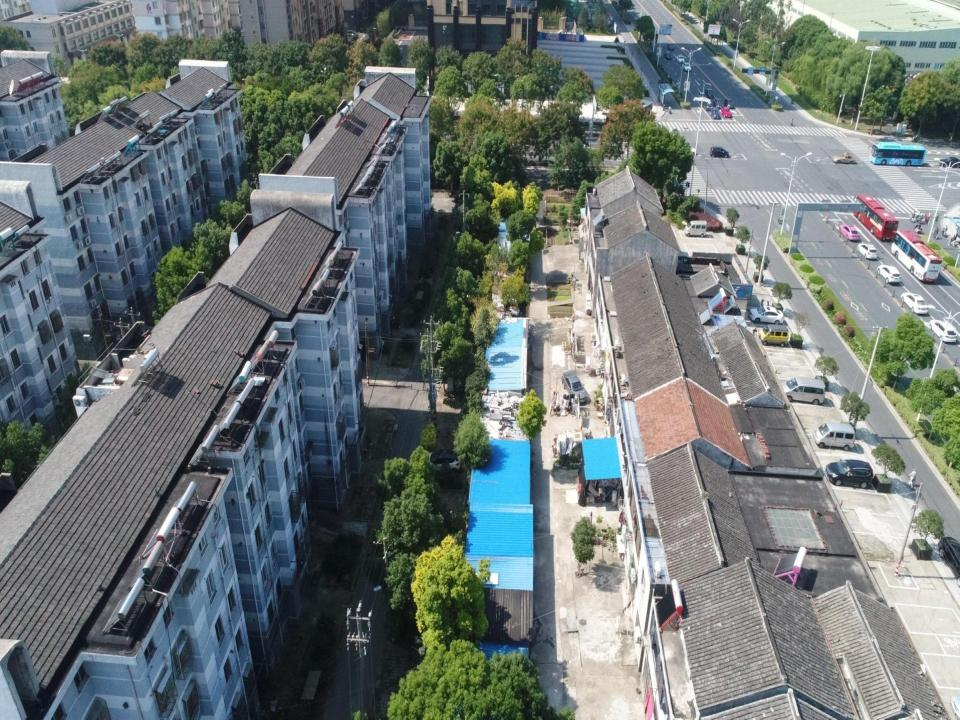bus: (888, 226, 942, 282), (852, 191, 901, 246), (867, 139, 927, 166)
car: (824, 457, 875, 487), (560, 369, 591, 406), (940, 532, 959, 580), (928, 314, 956, 344), (901, 292, 929, 316), (751, 306, 786, 322), (877, 260, 899, 283), (840, 221, 861, 243), (858, 242, 878, 260), (832, 152, 856, 166), (938, 156, 960, 168), (710, 146, 730, 157), (712, 97, 723, 109), (710, 108, 720, 120), (722, 108, 732, 120), (724, 97, 734, 109), (704, 88, 714, 98), (703, 99, 712, 109), (682, 61, 690, 71), (665, 50, 672, 58), (676, 56, 684, 62), (668, 43, 674, 49)
van: (781, 376, 827, 404), (811, 424, 856, 450), (758, 321, 790, 345), (681, 218, 707, 238)
